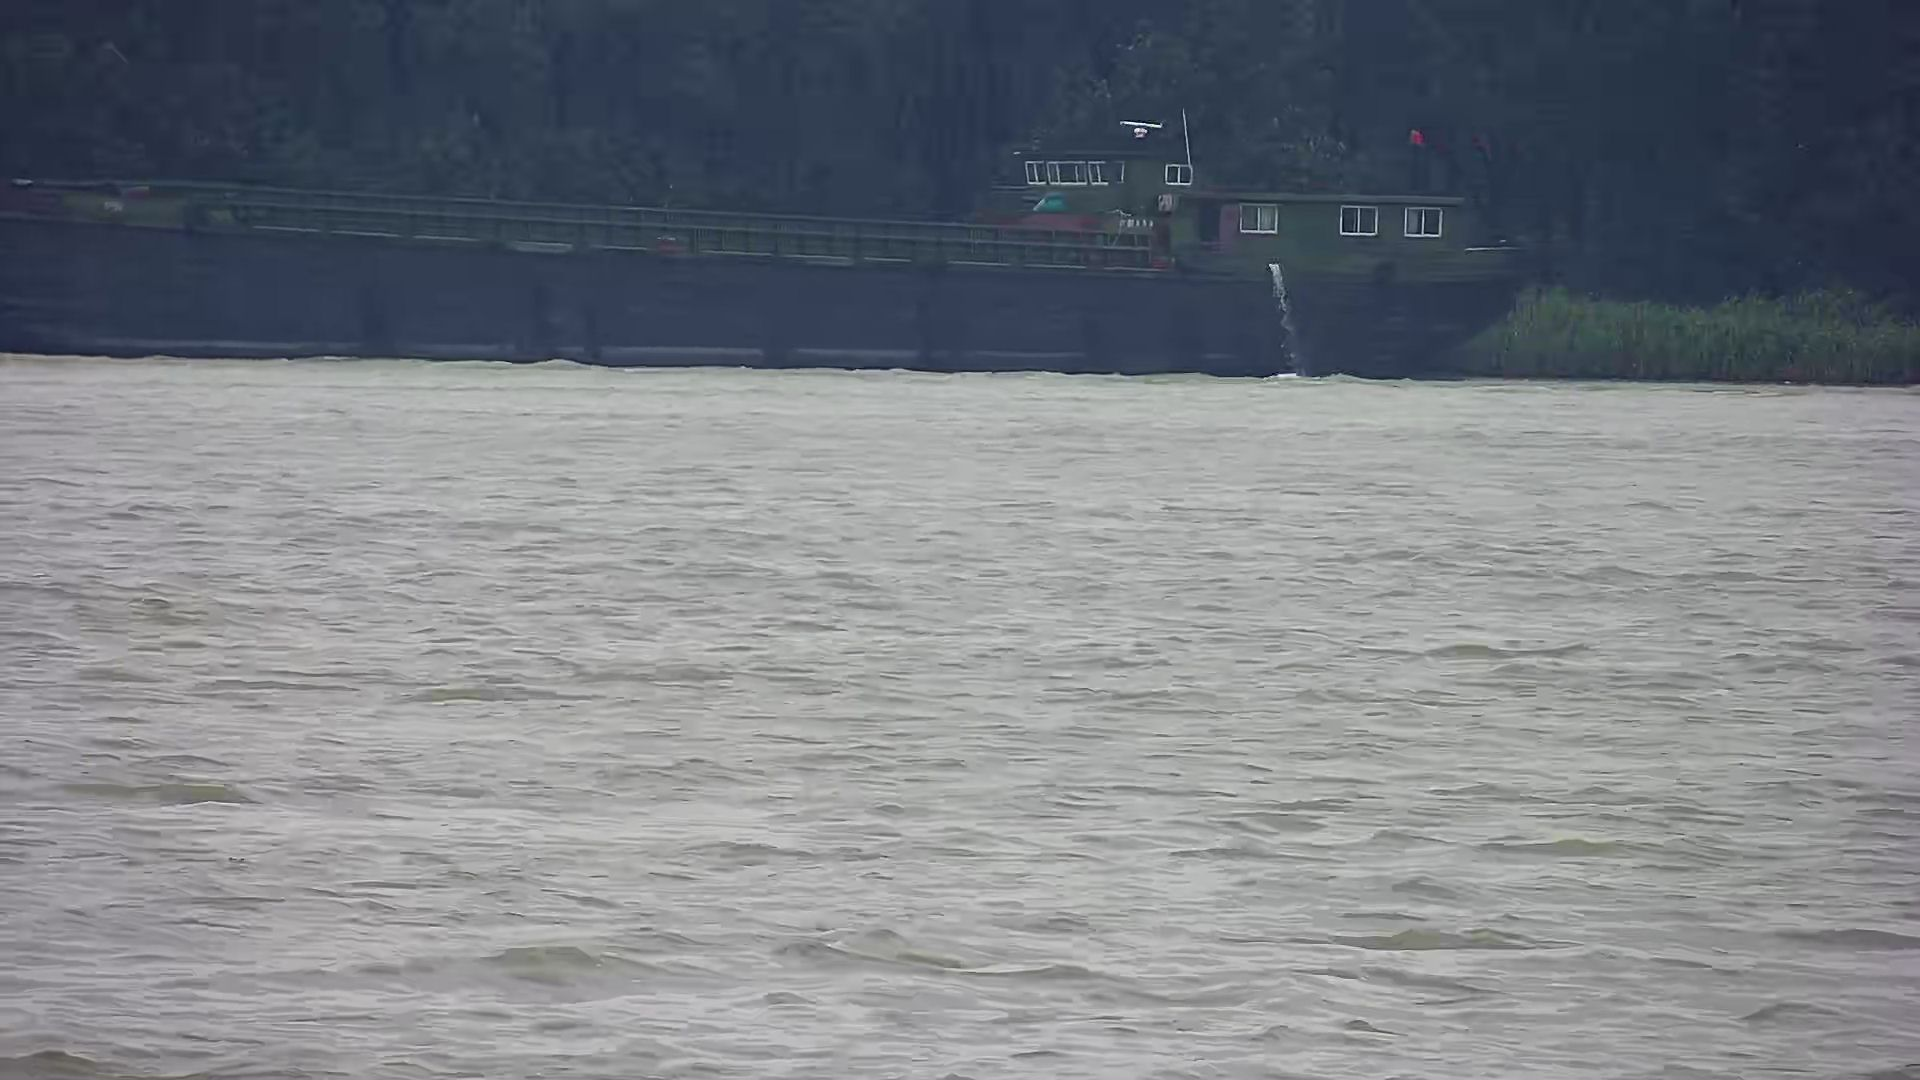ship: (4, 99, 1530, 397)
